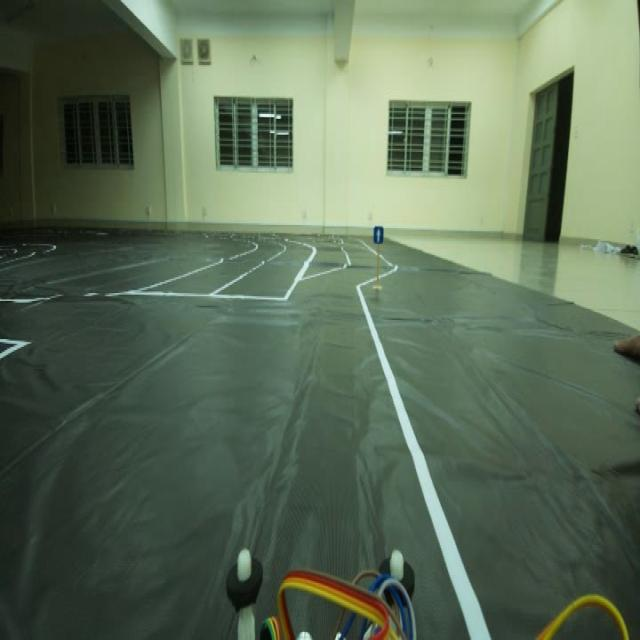onewayroad: (371, 220, 385, 258)
